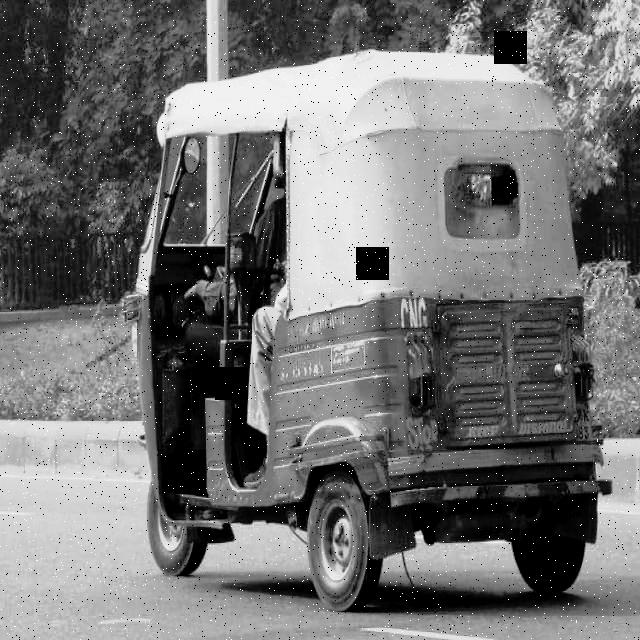Auto-Rickshaw: (111, 55, 607, 613)
